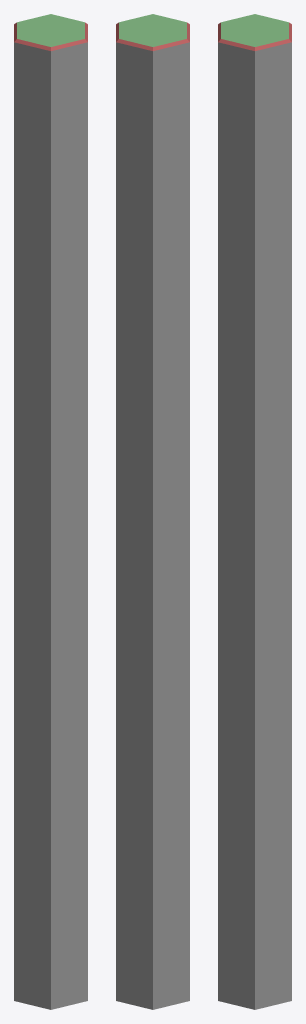
File: hexagon_01.fbx
3 views of the same model, side by side, from view 1: azimuth 90°, elevation 25°; view 2: azimuth 150°, elevation 25°; view 3: azimuth 330°, elevation 25° (orthographic).
Parts seen in each view (by area): view 1: hexagon_01; view 2: hexagon_01; view 3: hexagon_01.
Part boxes in pixels (x1,y1,x2,y2): hexagon_01: (14, 14, 87, 1009); hexagon_01: (116, 14, 189, 1009); hexagon_01: (218, 14, 291, 1009).
Bounding box in the file's own units: 100 × 1244 × 86.6.
